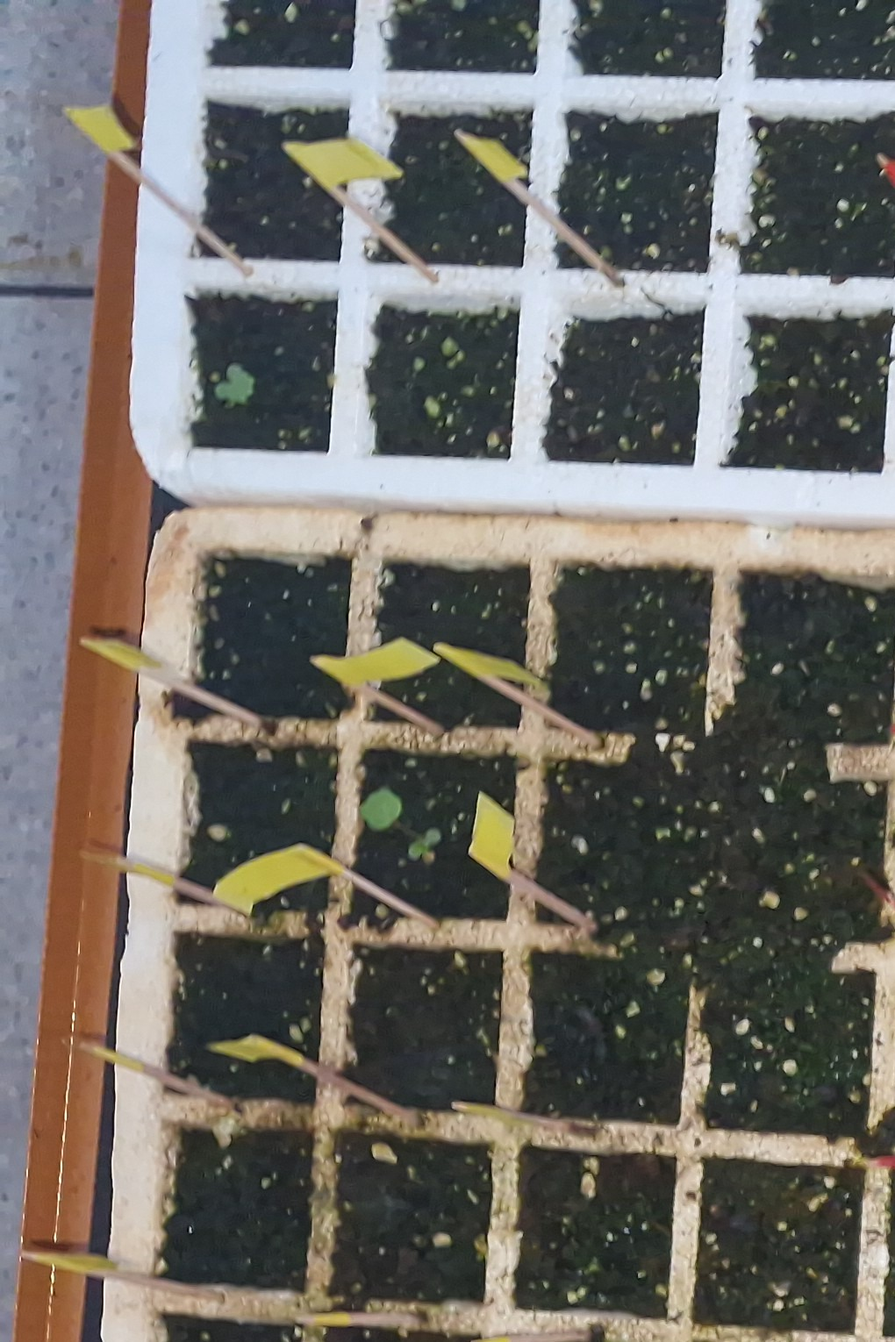Folha: (359, 786, 401, 830), (408, 840, 423, 858), (426, 828, 441, 843)
Germinacao: (360, 789, 441, 859)
